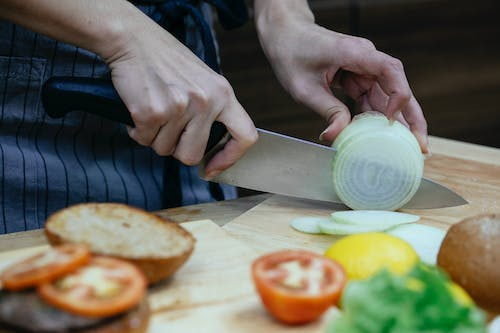knife: (40, 74, 470, 210)
